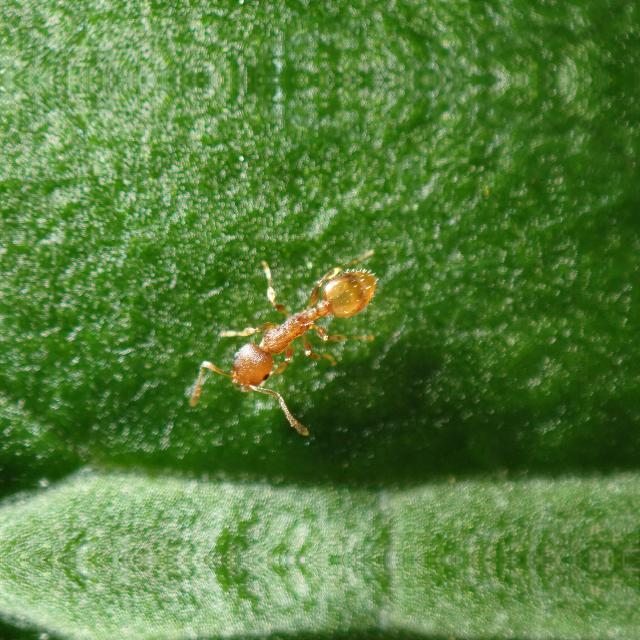Temnothorax: (175, 225, 391, 413)
